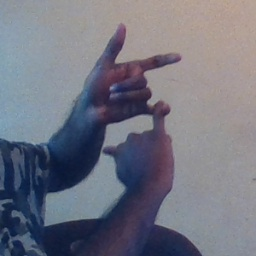S: (75, 19, 188, 190)
